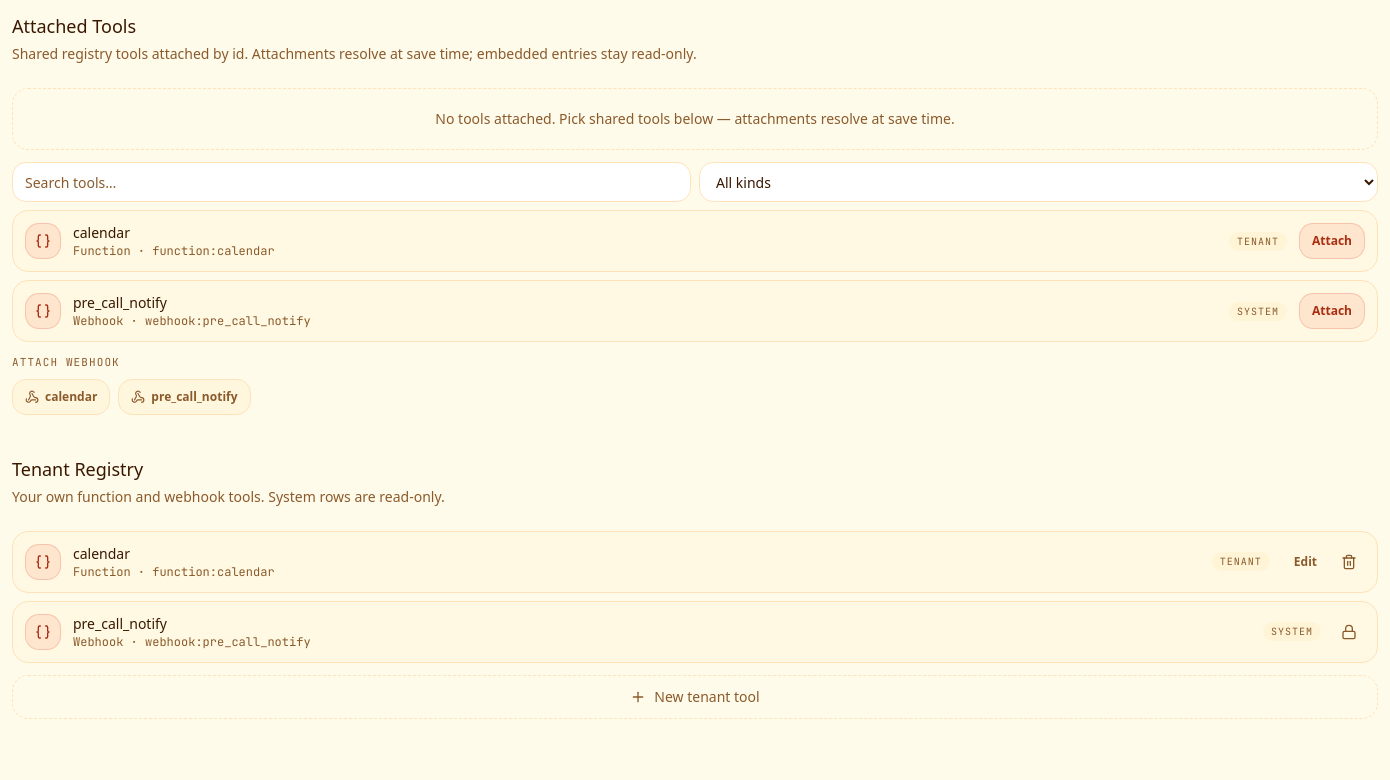
Test: ToolsConfigForm picker (spec 0029 slice 3) › attaches a registry row via form state plus a full-array PATCH
Click the 1st button "Attach". click: (1332, 241)
box: [1299,223,1365,259]
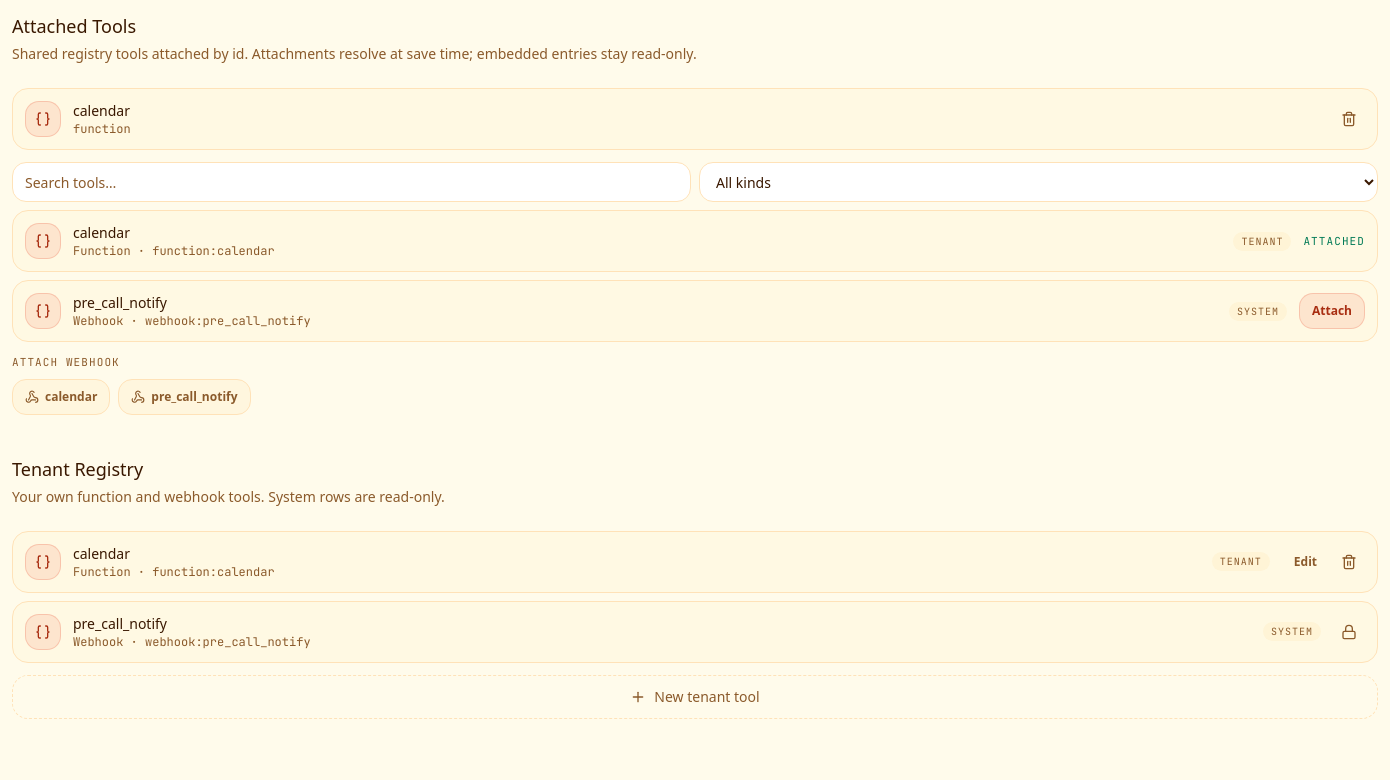
Check: the button named "Detach calendar" is shown, box [1333,103,1365,135]
